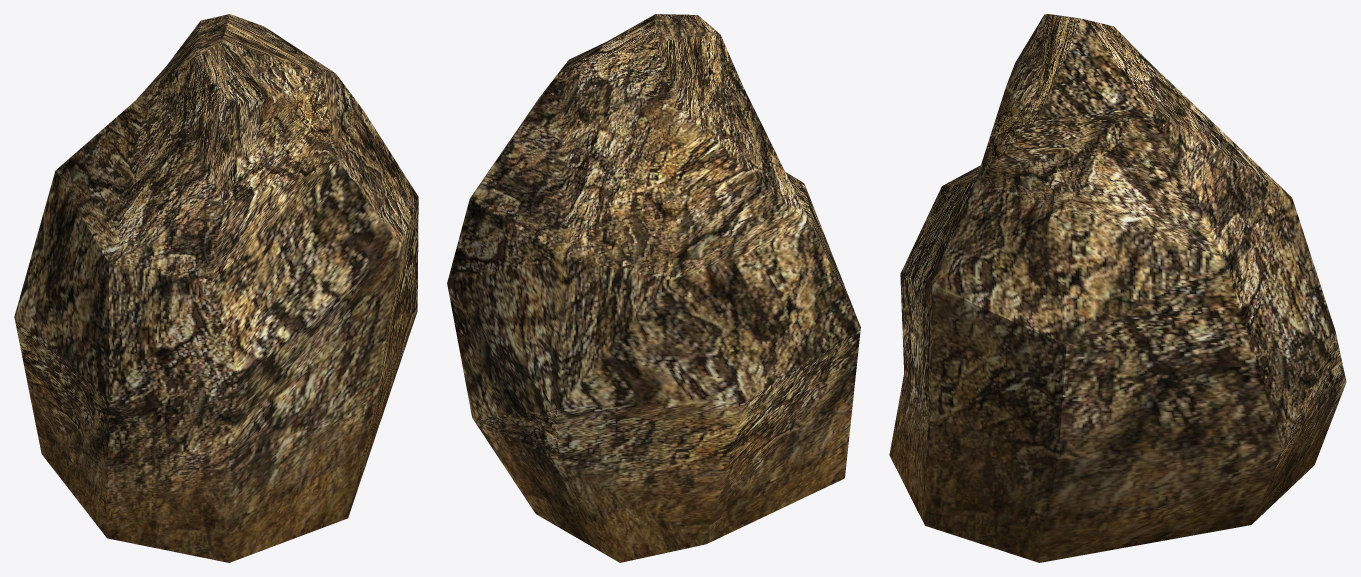
File: hr_rock7.glb
The picture shows the model from 3 angles, left to right: view 1: azimuth 30°, elevation 25°; view 2: azimuth 150°, elevation 25°; view 3: azimuth 270°, elevation 25°; orthographic projection. The views are drawn at different scales.
Visible parts, largest first — view 1: hr_rock7-col; view 2: hr_rock7-col; view 3: hr_rock7-col.
Part boxes in pixels (bbox=[...]): hr_rock7-col: bbox=[14, 14, 418, 562]; hr_rock7-col: bbox=[447, 14, 860, 562]; hr_rock7-col: bbox=[889, 14, 1346, 562].
Bounding box in the file's own units: 7.11 × 9.04 × 7.72.
2 materials, 2 textured.
